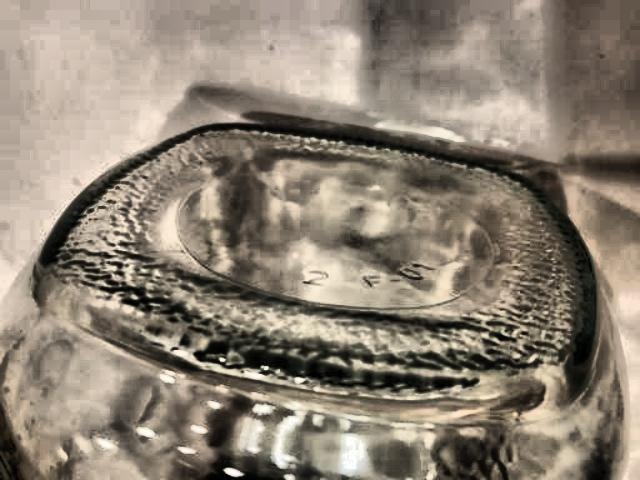Almennt: (0, 110, 614, 480)
